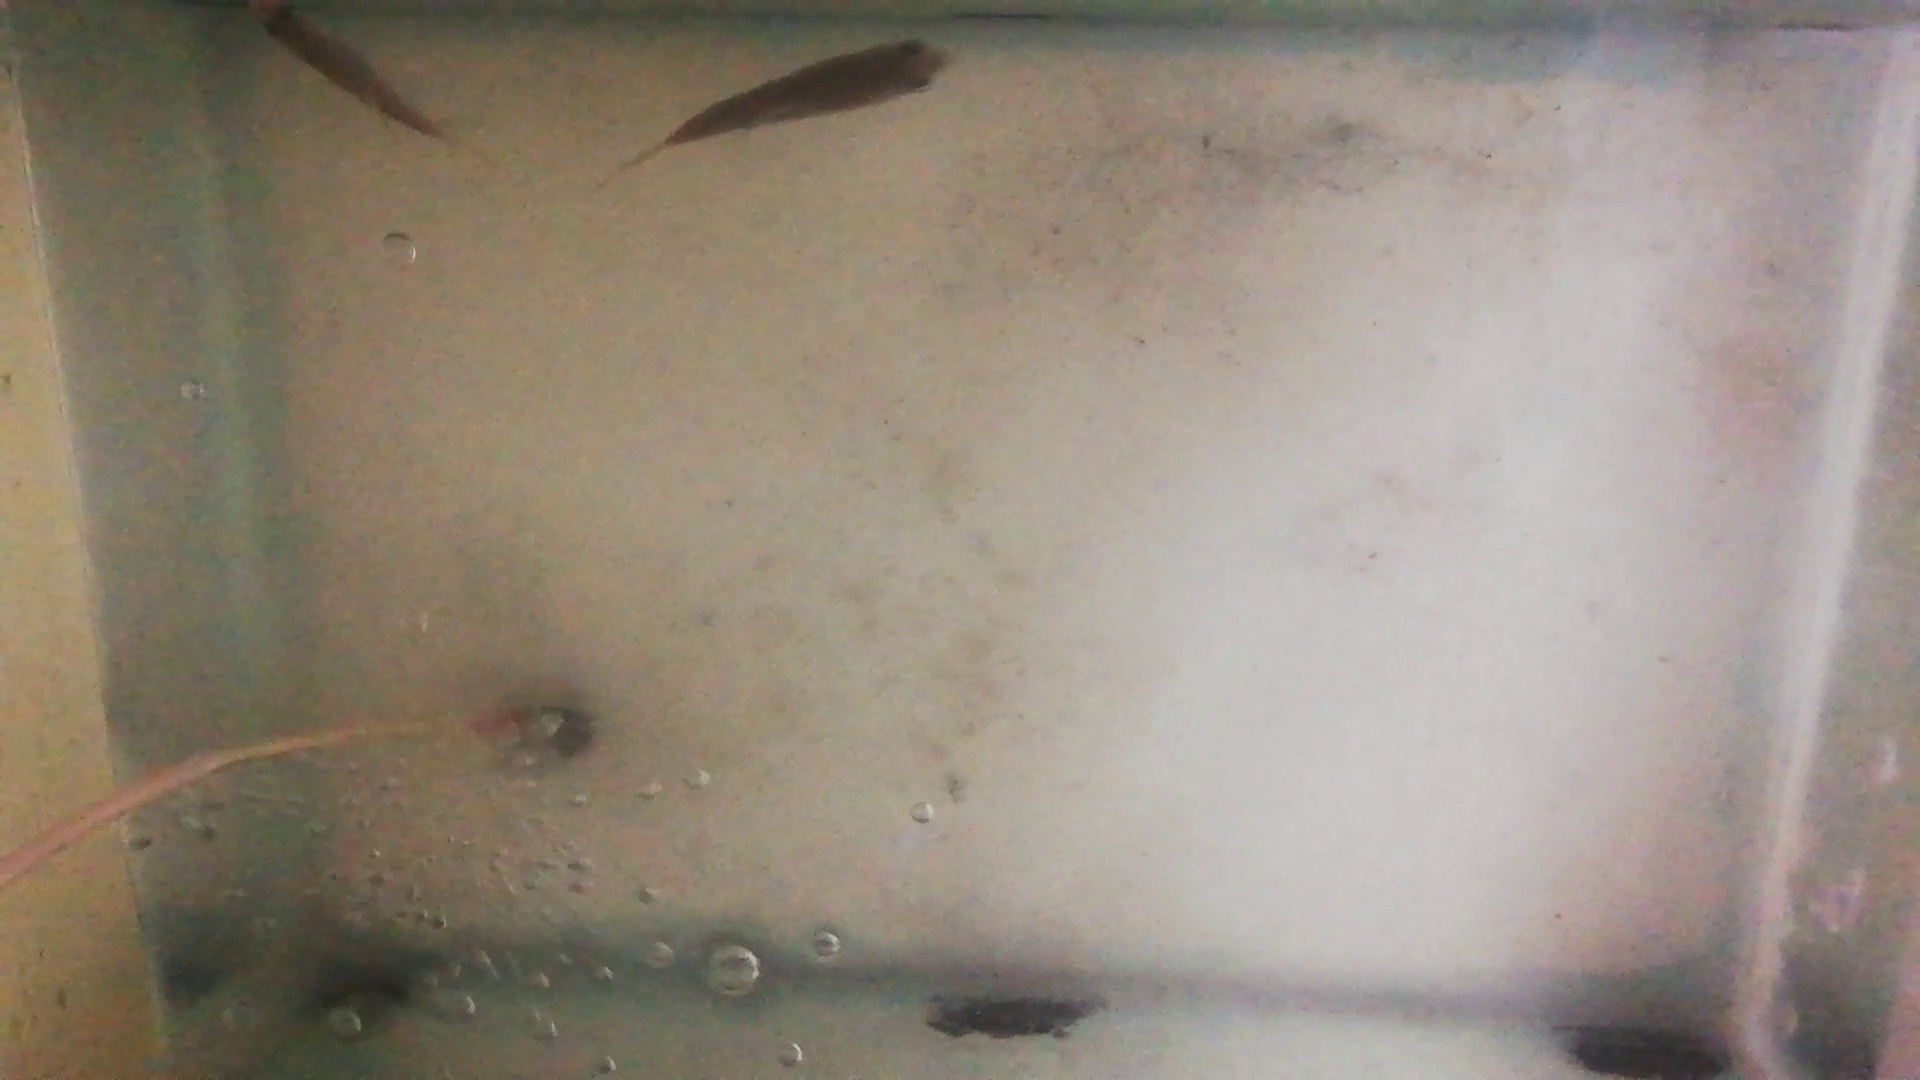fish: (665, 40, 960, 152), (252, 1, 440, 141)
